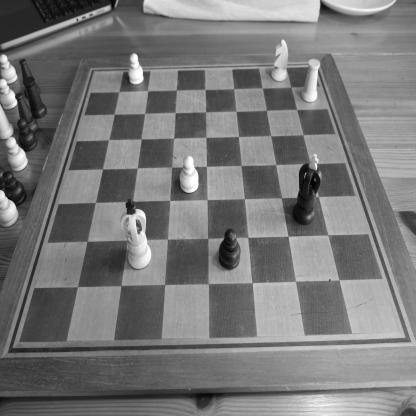black-bishop: (15, 92, 39, 134), (19, 58, 40, 98)
black-king: (292, 154, 324, 226)
black-pawn: (2, 170, 28, 208), (218, 228, 241, 270), (17, 117, 38, 154)
black-rook: (23, 76, 48, 119)
white-king: (120, 198, 152, 271)
white-knight: (270, 39, 289, 82)
white-pawn: (5, 137, 29, 172), (179, 154, 199, 194), (0, 190, 20, 228), (1, 78, 18, 111), (1, 53, 18, 85), (128, 52, 144, 85)
white-rook: (300, 58, 321, 103)
